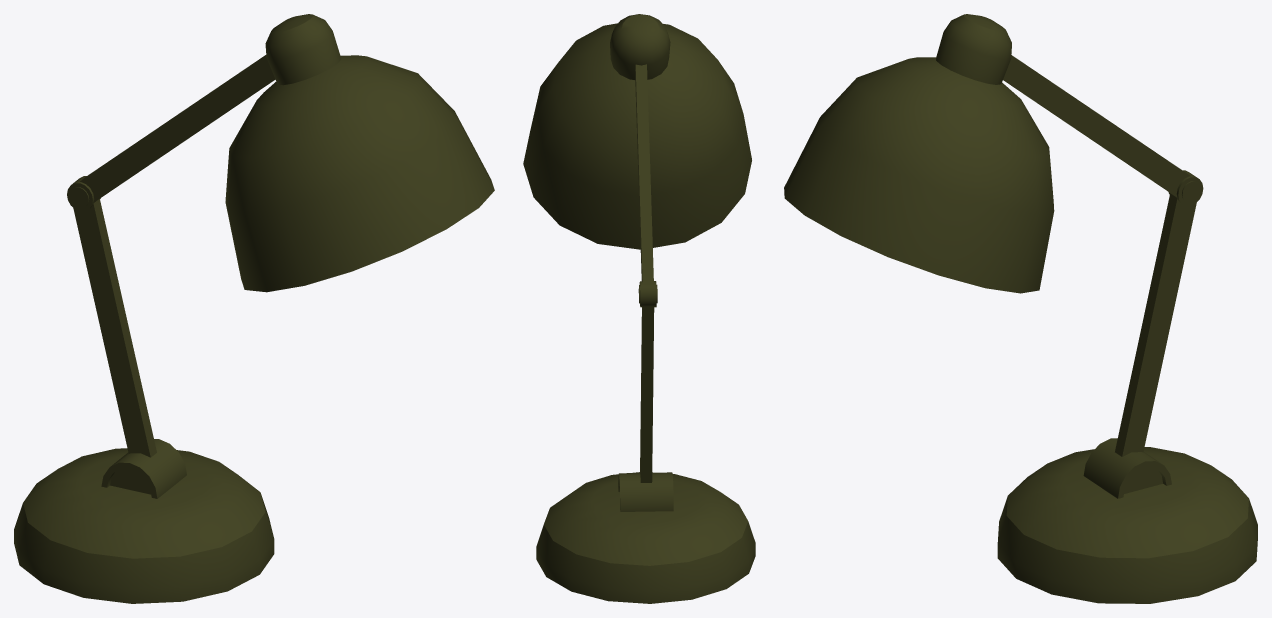
Rendered from lampka.fbx.
3 renders of one model, left to right at view 1: azimuth 30°, elevation 25°; view 2: azimuth 150°, elevation 25°; view 3: azimuth 270°, elevation 25°, orthographic. The views are drawn at different scales.
Parts seen in each view (by area): view 1: lampa_L; view 2: lampa_L; view 3: lampa_L.
Part boxes in pixels (bbox=[...]): lampa_L: bbox=[14, 14, 494, 603]; lampa_L: bbox=[523, 14, 755, 603]; lampa_L: bbox=[784, 14, 1257, 603].
Bounding box in the file's own units: 286 × 241 × 381.
